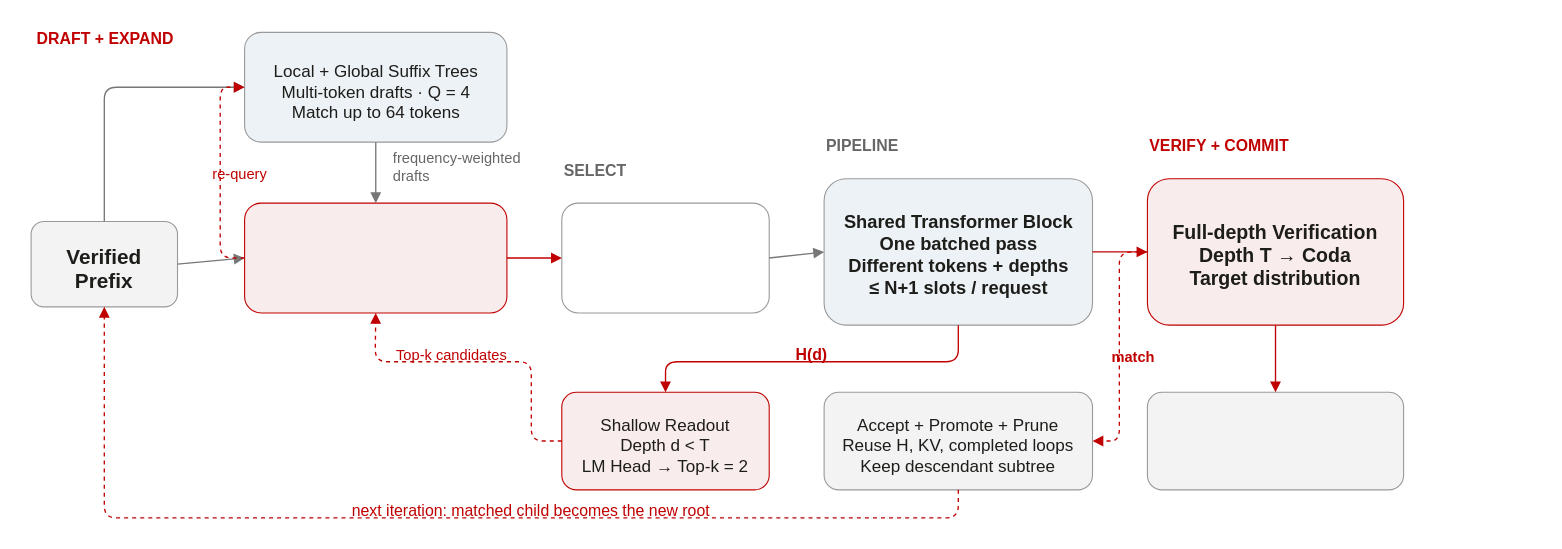
Some shapes in this 1562 by 549 pixel diagram are drawn without their labels. The centre of each missing label's shape, as x and y in pixels:
"Committed Tokens One or more per step Output distribution preserved" goes at [1275,440].
"Path Scoring s(v) = s(parent)·w(v) Keep Top-N · N = 16" goes at [665,257].
"Unified Draft Tree Shared-prefix merge Bidirectional expansion" goes at [375,257].
